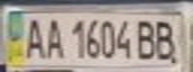0: (100, 16, 118, 60)
1: (66, 16, 87, 60)
4: (115, 16, 136, 60)
6: (84, 16, 103, 60)
A: (21, 15, 48, 60), (42, 15, 66, 60)
B: (151, 17, 181, 63), (133, 16, 160, 61)
